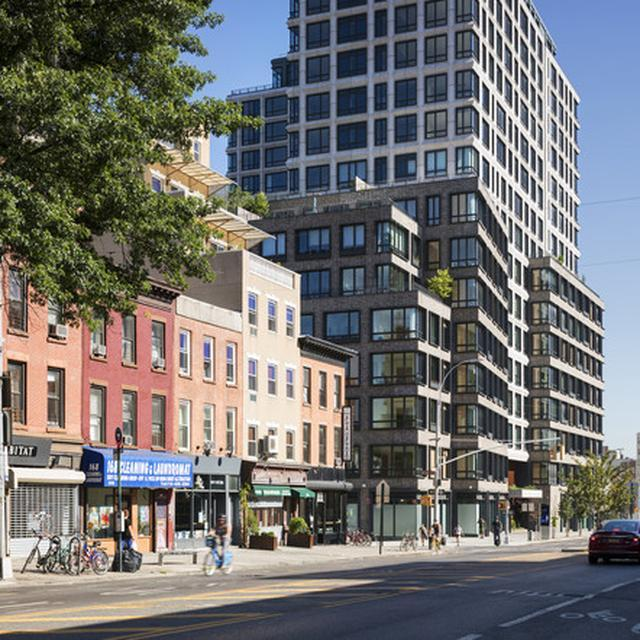building: (225, 1, 606, 538), (2, 116, 350, 560)
